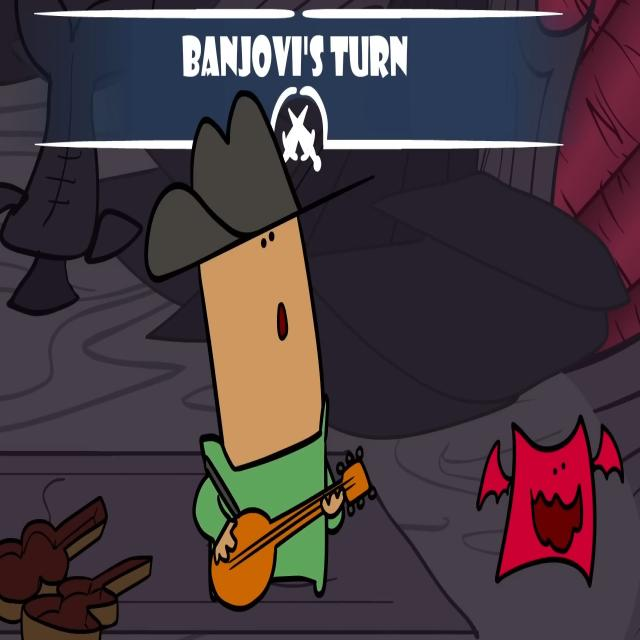Banjovi: (176, 91, 348, 609)
